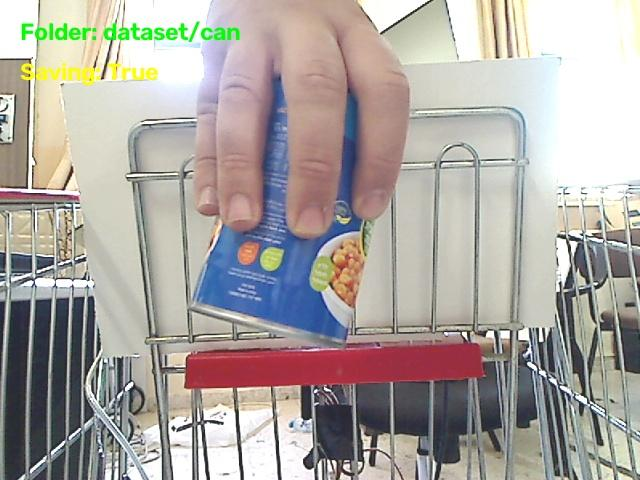can: (191, 81, 371, 345)
